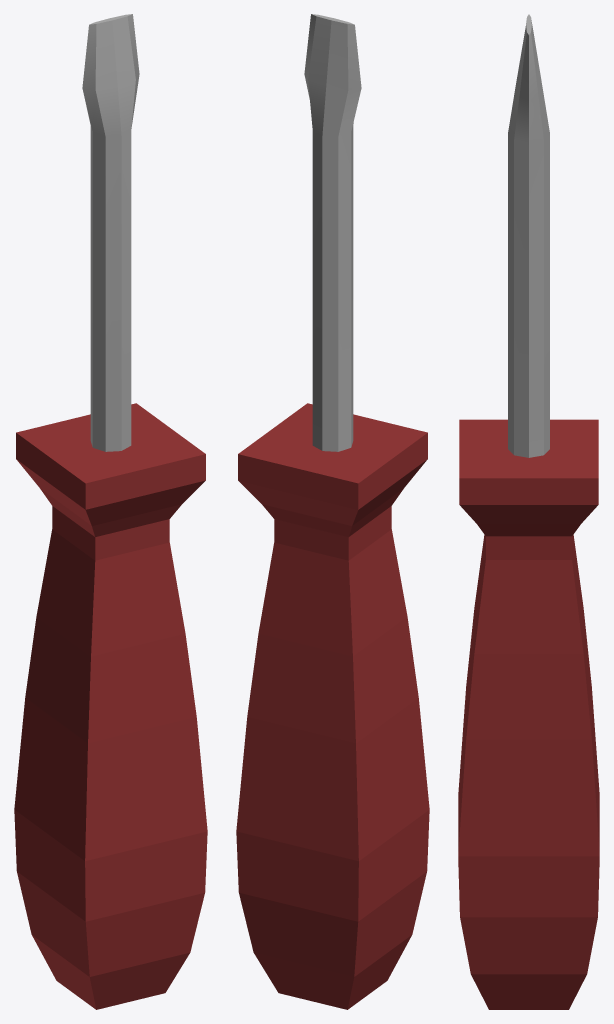
The model's file is Flathead Screwdriver.fbx.
The picture shows the model from 3 angles, left to right: view 1: azimuth 30°, elevation 25°; view 2: azimuth 150°, elevation 25°; view 3: azimuth 270°, elevation 25°; orthographic projection.
Parts seen in each view (by area): view 1: Flathead_Screwdriver; view 2: Flathead_Screwdriver; view 3: Flathead_Screwdriver.
Part boxes in pixels (x1,y1,x2,y2): Flathead_Screwdriver: (14, 14, 207, 1009); Flathead_Screwdriver: (236, 14, 429, 1009); Flathead_Screwdriver: (458, 14, 599, 1009).
Bounding box in the file's own units: 0.0784 × 0.5912 × 0.0784.
